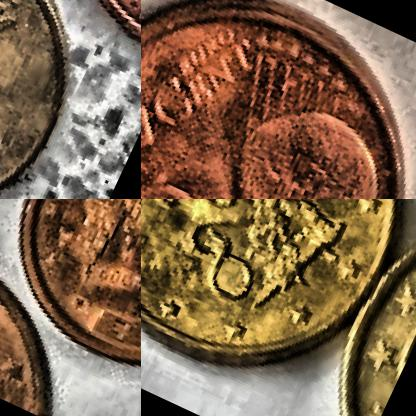coin: (141, 199, 415, 411), (141, 0, 415, 198), (0, 199, 140, 412), (0, 0, 117, 198)
